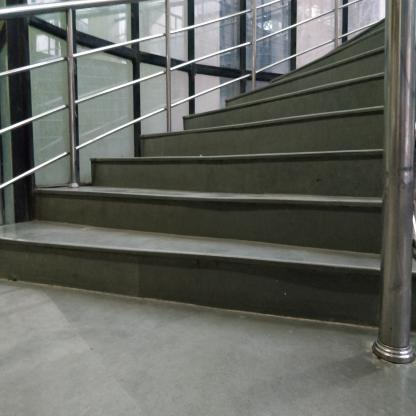stairs: (108, 139, 376, 336)
